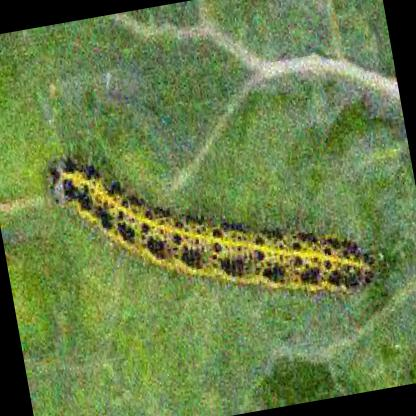pieris: (46, 158, 374, 290)
